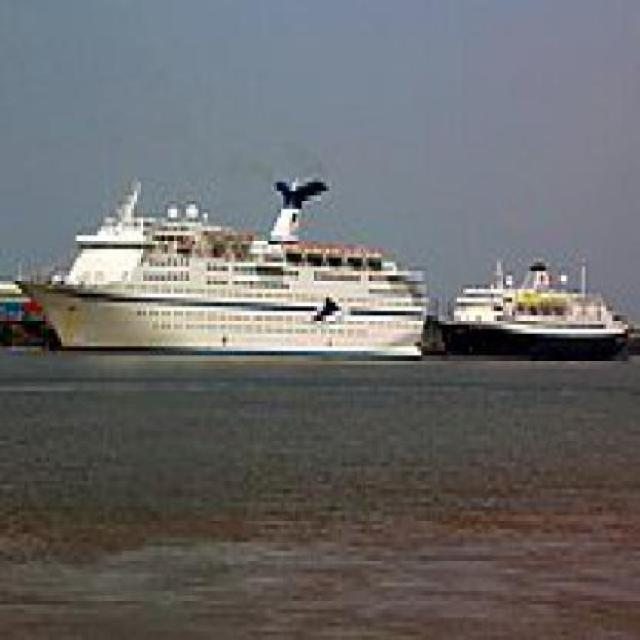cruise: (7, 170, 444, 370)
